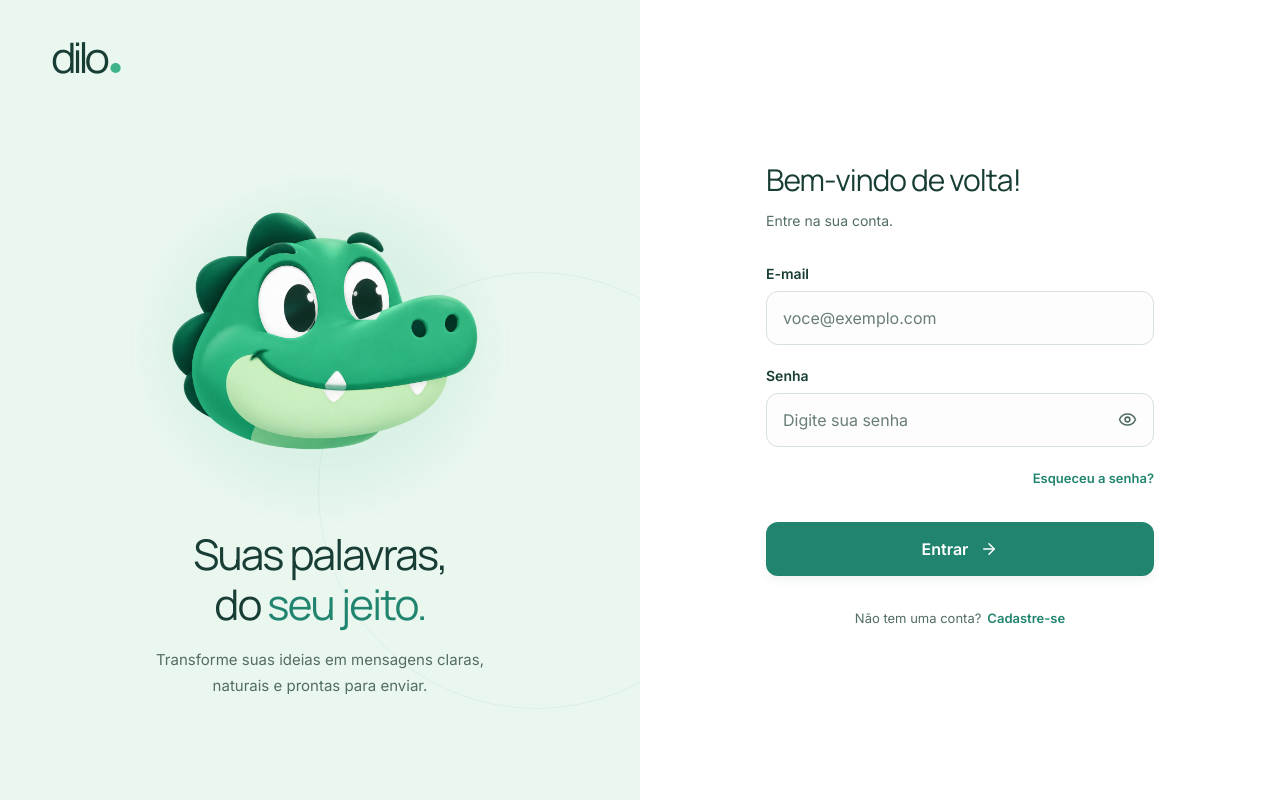
Test case: Protótipo de login › conclui somente a demonstração e limpa a senha
Type "teste@example.com" into the field labelled "E-mail".
click(960, 318); type("teste@example.com")  # box [766,291,1154,345]
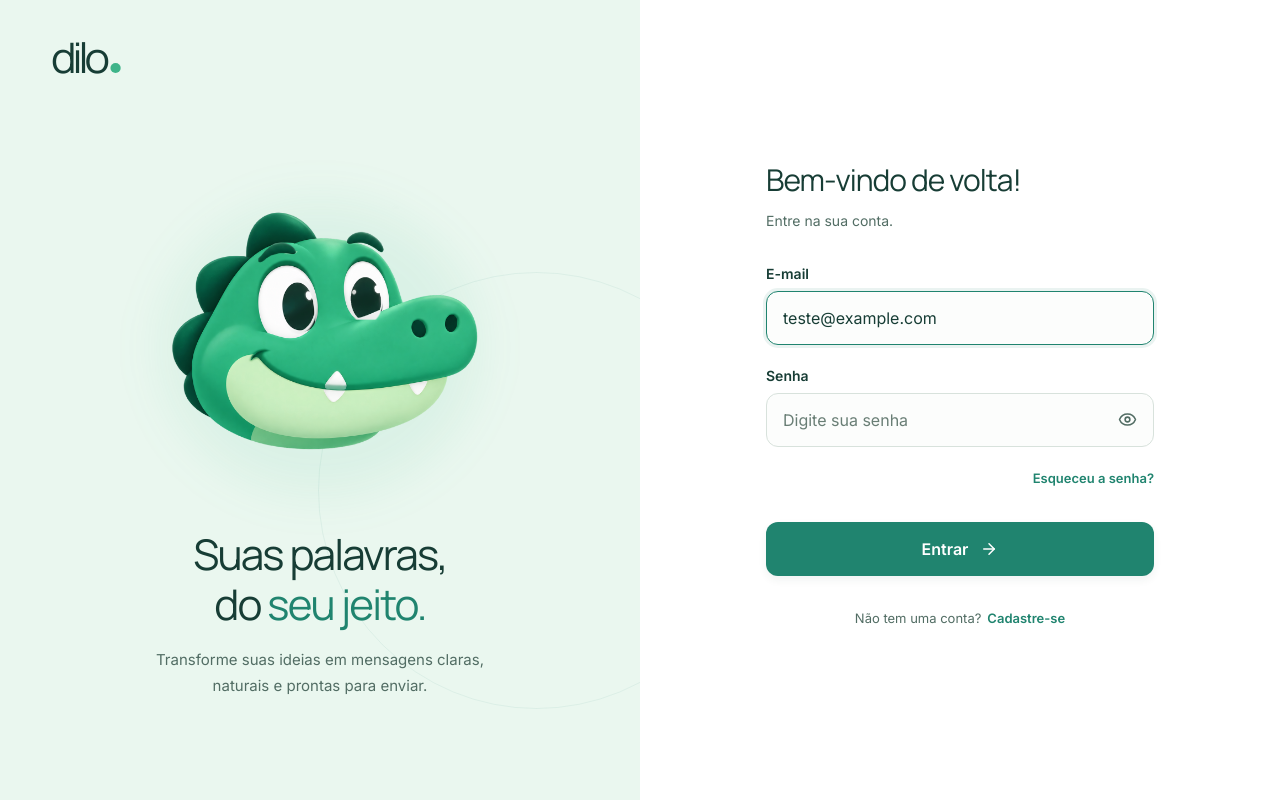
Type "senha-ficticia" into the password field labelled "Senha".
click(960, 420); type("senha-ficticia")  # box [766,393,1154,447]
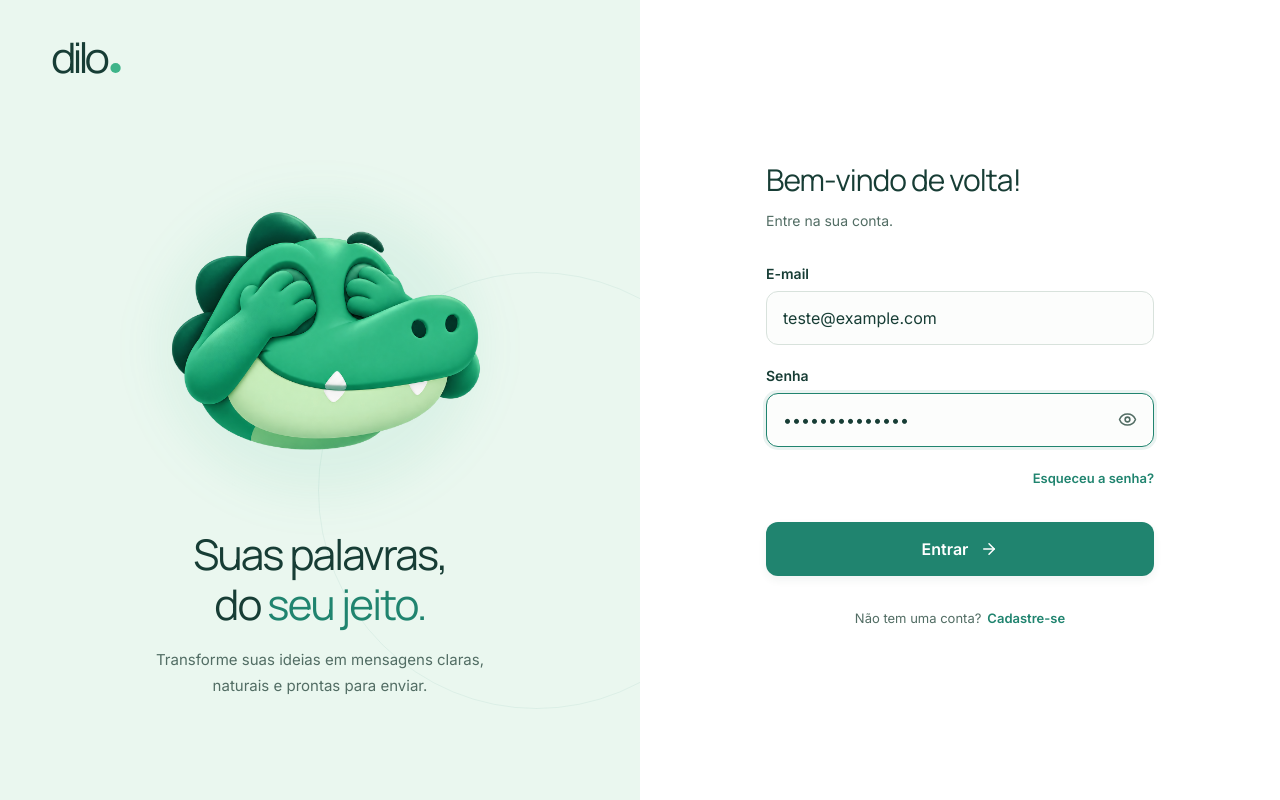
Click the button "Entrar".
click(960, 549)  # box [766,522,1154,576]
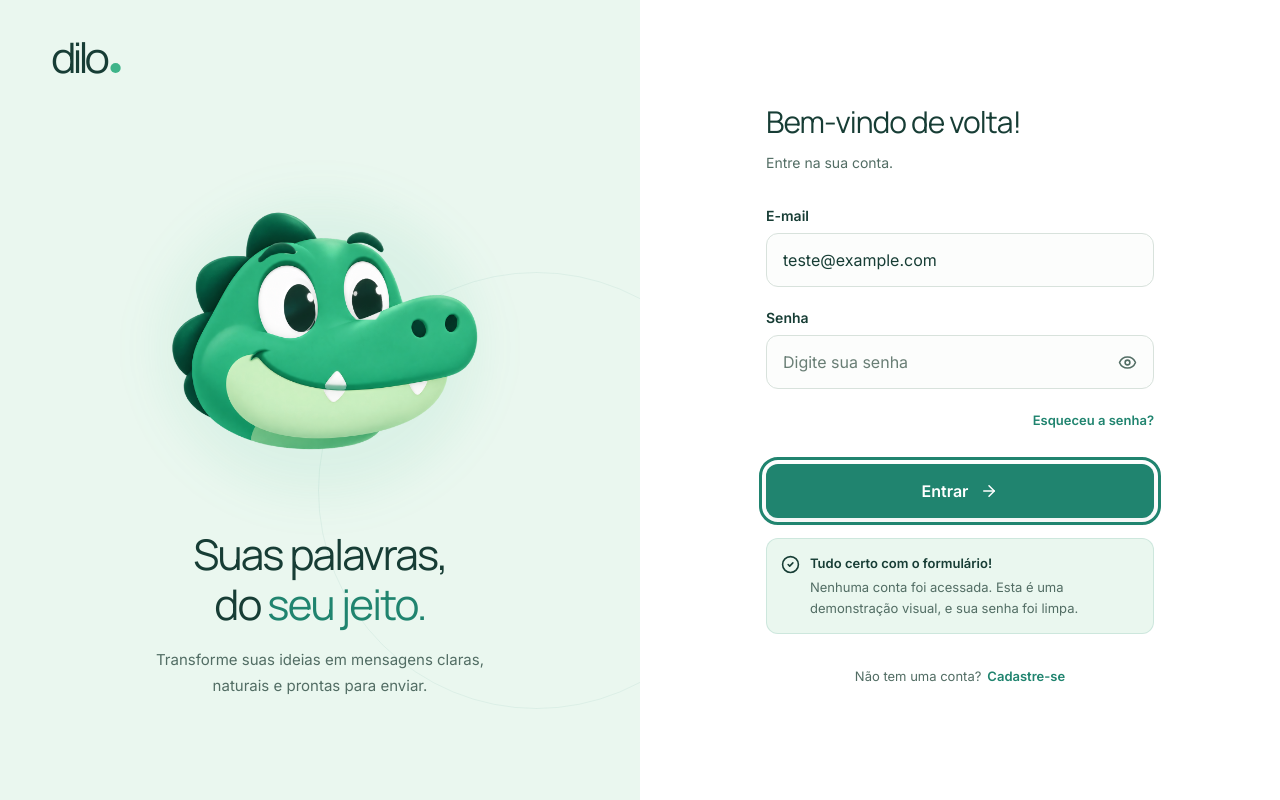
Now the text "Tudo certo com o formulário!" is shown, box [810,555,992,571]
Now the password field labelled "Senha" is empty, box [766,335,1154,389]
Now the text "Nenhuma conta foi acessada" is shown, box [810,579,1078,616]
